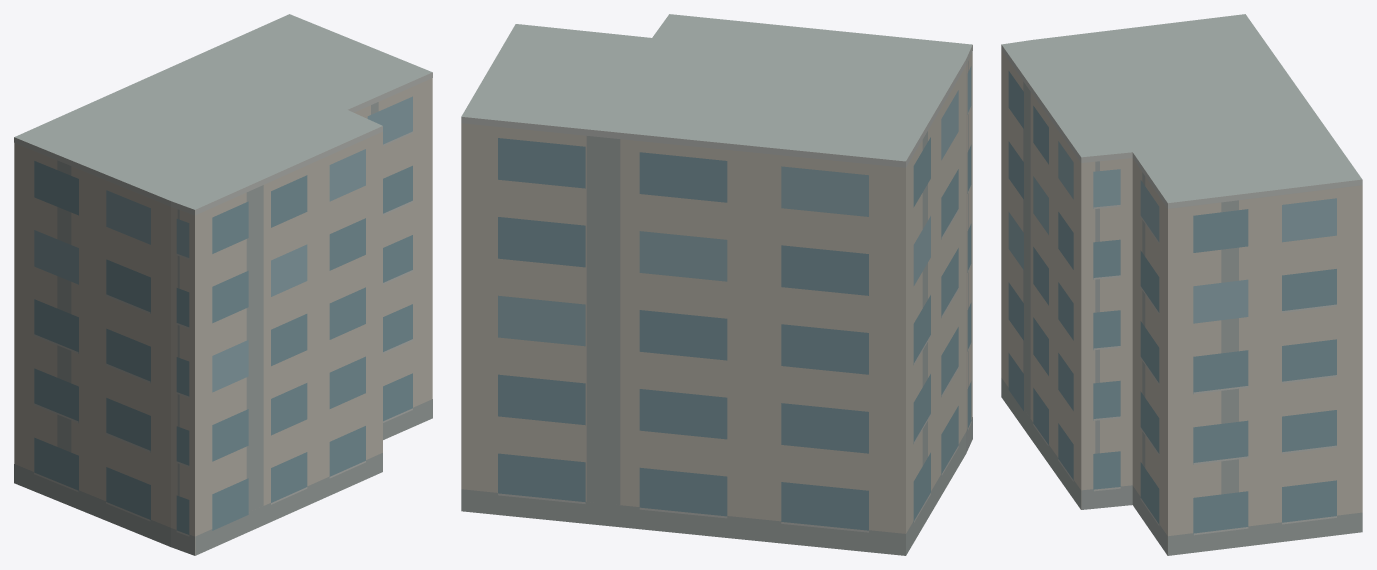
The model's file is survey-upis-32852243.glb.
3 views of the same model, side by side, from view 1: azimuth 30°, elevation 25°; view 2: azimuth 150°, elevation 25°; view 3: azimuth 270°, elevation 25° (orthographic). The views are drawn at different scales.
Parts seen in each view (by area): view 1: survey-upis-32852243.tmp; view 2: survey-upis-32852243.tmp; view 3: survey-upis-32852243.tmp.
Part boxes in pixels (bbox=[...]): survey-upis-32852243.tmp: bbox=[14, 14, 432, 555]; survey-upis-32852243.tmp: bbox=[461, 14, 972, 555]; survey-upis-32852243.tmp: bbox=[1001, 14, 1362, 555].
Size of the model in its own units: 17.27 by 15 by 13.93.
